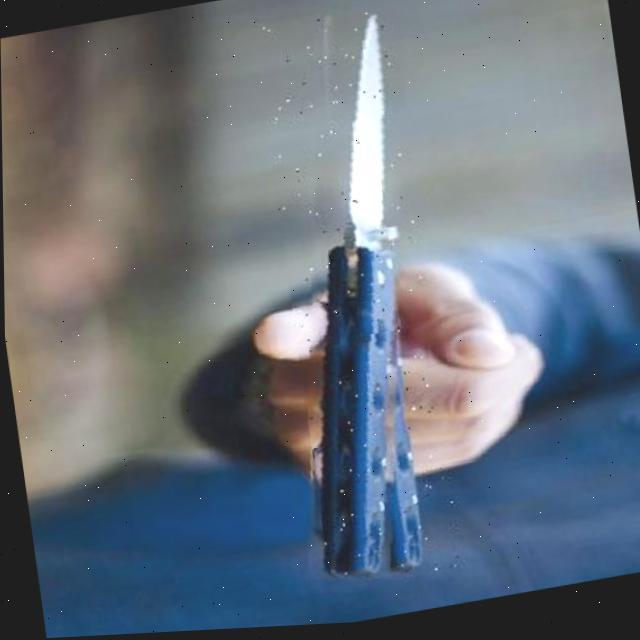knife: (252, 6, 460, 593)
